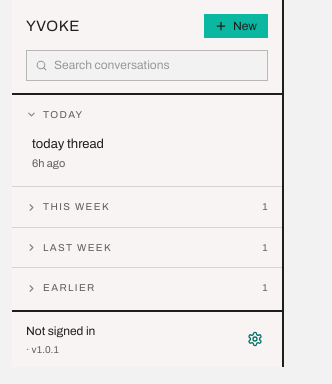
it: ThreadList grouping › reopens a collapsed section while searching, so no match stays hidden
The width and height of the screenshot is (332, 384).
Click the button "Today": (63, 114) [12,95,282,128]
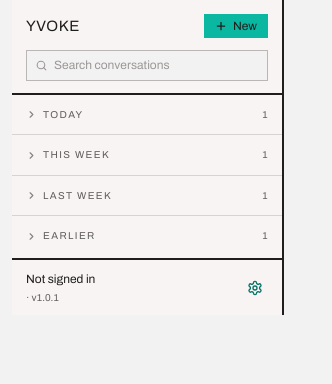
In the field labelled "Search conversations": (156, 66) [54,56,259,75], type "today"
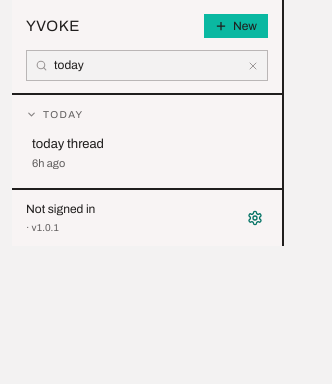
Expected: the text "today thread" is shown, [32,138,104,152]
